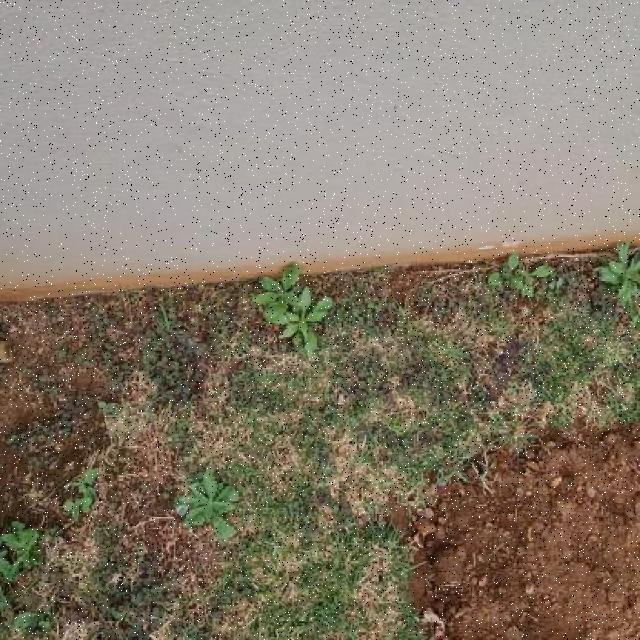weed: (251, 263, 332, 352), (172, 471, 238, 541), (597, 245, 640, 322), (488, 255, 554, 299), (0, 523, 38, 592), (60, 469, 97, 521)
